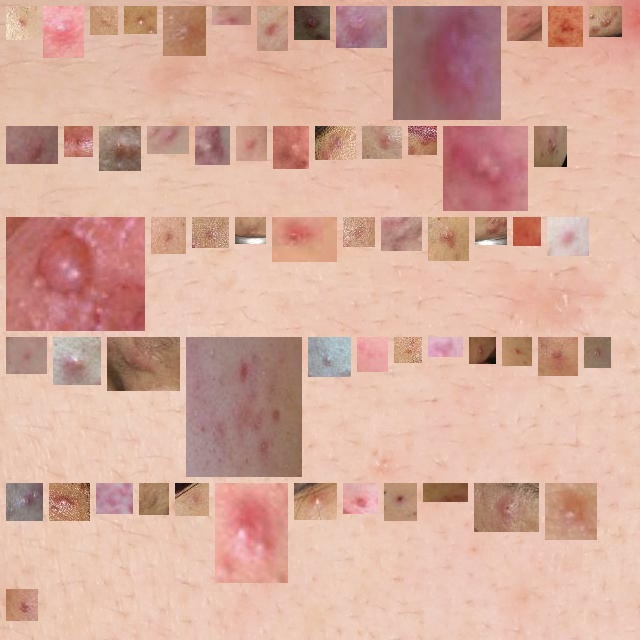papule: (194, 345, 294, 469), (14, 225, 137, 323), (401, 14, 493, 112), (223, 491, 280, 575), (451, 134, 520, 203), (115, 345, 172, 383), (482, 491, 531, 524), (553, 491, 589, 532), (280, 225, 329, 254), (61, 345, 93, 377), (171, 14, 198, 48), (344, 14, 379, 40), (51, 14, 76, 50), (14, 134, 50, 156), (107, 134, 133, 163), (436, 225, 461, 253), (316, 345, 343, 369), (555, 225, 581, 248), (302, 491, 329, 512), (546, 345, 570, 368), (57, 491, 82, 513), (281, 134, 301, 161), (14, 345, 39, 366), (155, 126, 181, 146), (556, 14, 575, 39), (14, 491, 35, 513), (323, 134, 348, 152), (389, 225, 414, 243), (203, 134, 222, 157), (265, 14, 280, 43), (542, 134, 559, 159), (370, 134, 394, 151), (159, 225, 178, 246), (392, 491, 409, 513), (515, 14, 534, 33), (302, 14, 322, 32), (200, 225, 221, 240), (104, 491, 125, 506), (183, 491, 201, 508), (431, 491, 460, 501), (244, 134, 259, 153), (365, 345, 380, 364), (351, 491, 370, 506), (14, 14, 29, 32), (14, 597, 30, 613), (597, 14, 614, 29), (220, 14, 243, 24), (351, 225, 367, 239), (147, 491, 161, 507), (132, 14, 149, 26), (72, 134, 85, 149), (483, 225, 499, 237), (510, 345, 524, 358), (416, 134, 429, 147), (243, 225, 258, 236), (592, 345, 603, 360), (98, 14, 110, 27), (521, 225, 533, 238), (477, 345, 488, 356), (402, 345, 414, 355)
